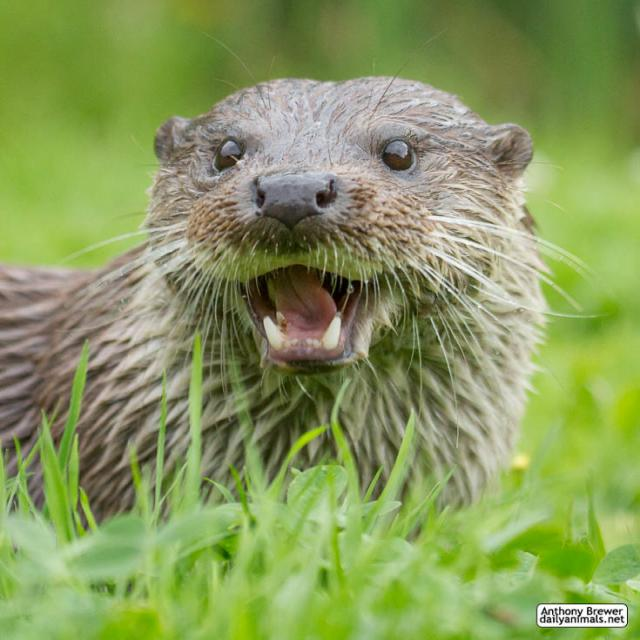otter: (4, 75, 537, 509)
